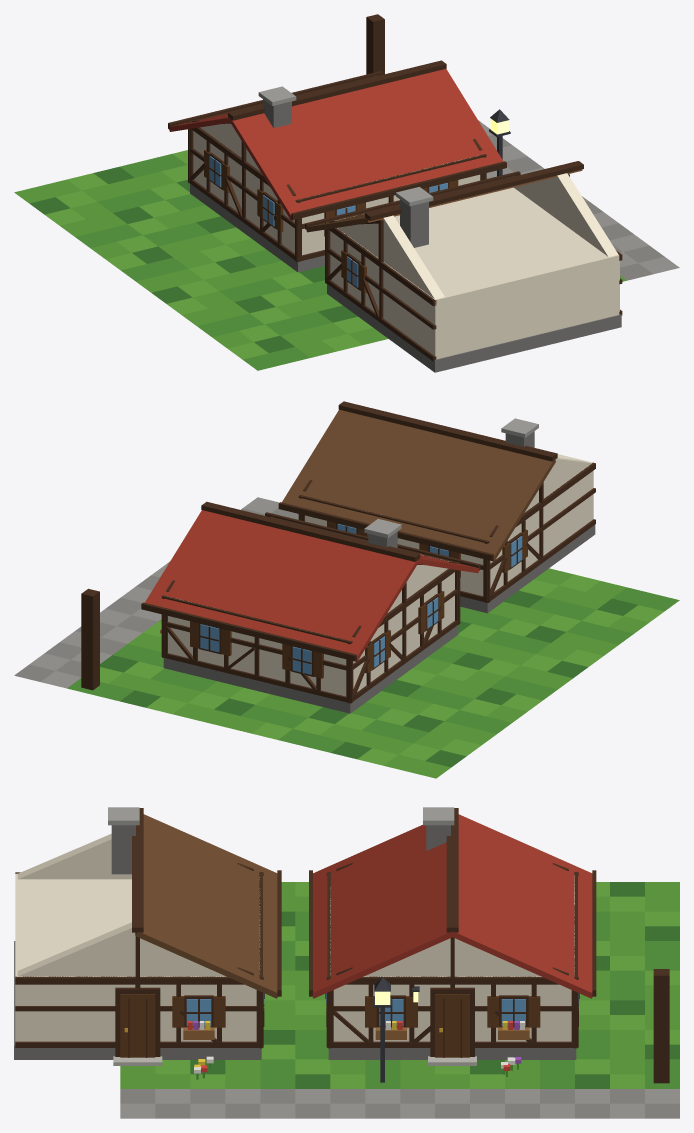
Rendered from chunk_5_9.glb.
3 views of the same model, one above another, from view 1: azimuth 30°, elevation 25°; view 2: azimuth 150°, elevation 25°; view 3: azimuth 270°, elevation 25° (orthographic). The views are drawn at different scales.
Parts seen in each view (by area): view 1: chunk_5_9; view 2: chunk_5_9; view 3: chunk_5_9.
Boxes of the visible parts, box(x1,y1,x2,y2) form: chunk_5_9: box(14, 14, 679, 372); chunk_5_9: box(14, 401, 679, 778); chunk_5_9: box(14, 807, 679, 1118).
Bounding box in the file's own units: 16 × 4.94 × 19.04.
